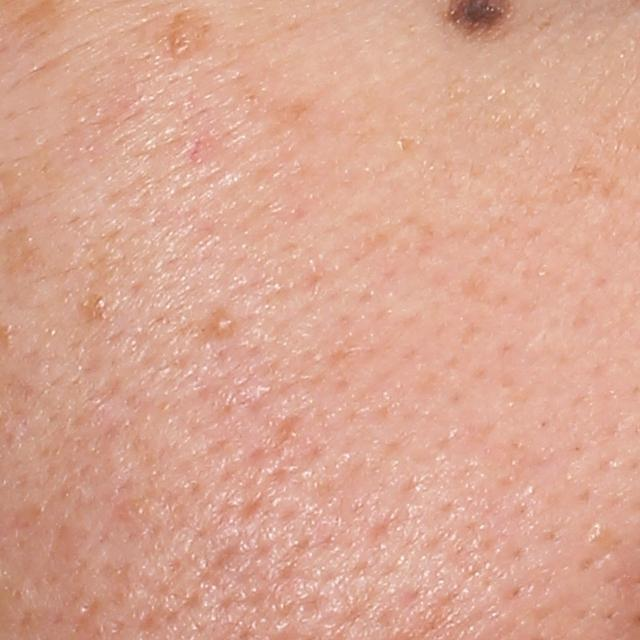comedo: (210, 313, 237, 337)
